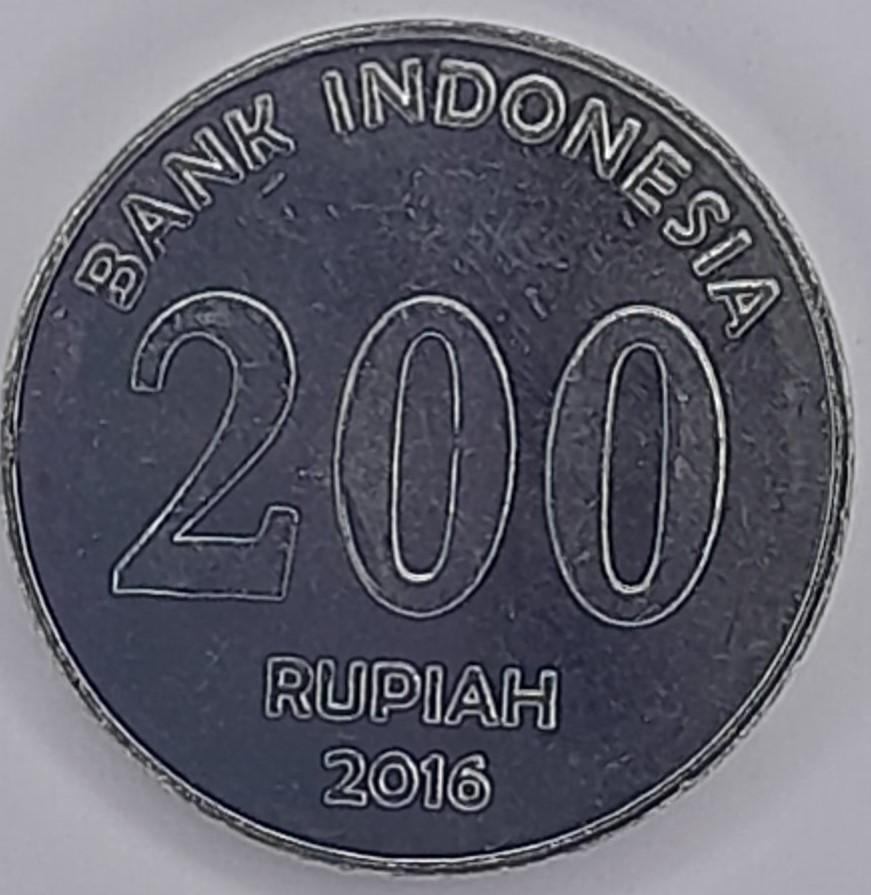coin_200_e2016: (0, 16, 871, 895)
